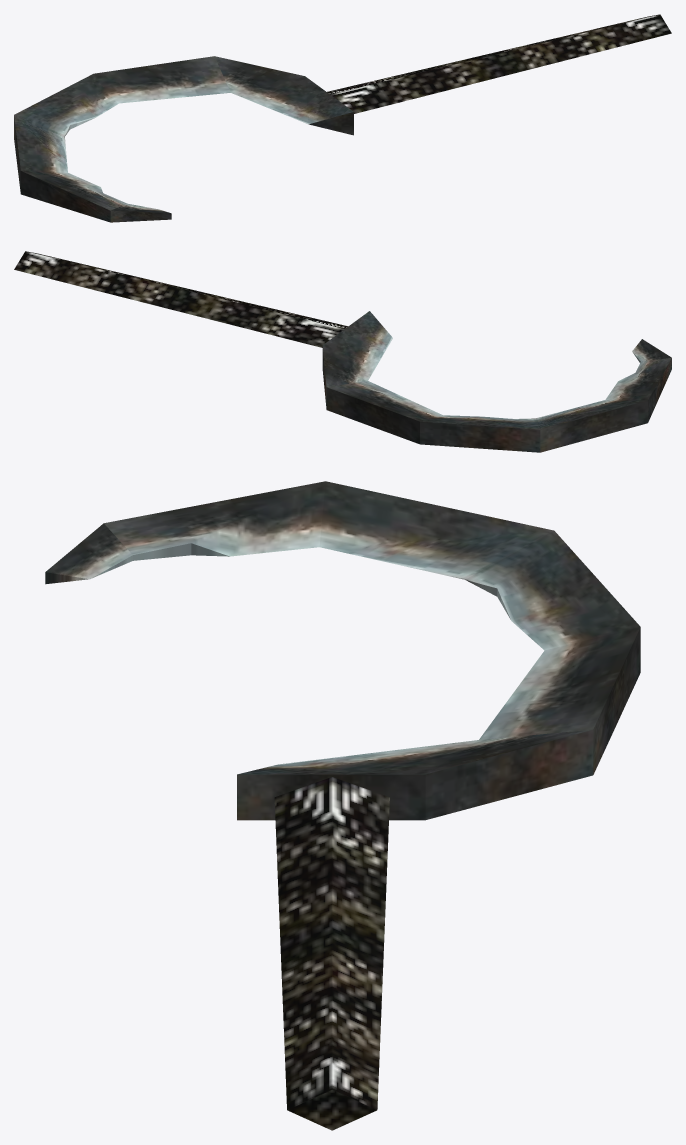
Rendered from ITMW_007_1H_SICKLE_01.glb.
3 renders of one model, top to bottom at view 1: azimuth 30°, elevation 25°; view 2: azimuth 150°, elevation 25°; view 3: azimuth 270°, elevation 25°, orthographic. The views are drawn at different scales.
Parts seen in each view (by area): view 1: ITMW_007_1H_SICKLE_01; view 2: ITMW_007_1H_SICKLE_01; view 3: ITMW_007_1H_SICKLE_01.
Boxes of the visible parts, x1=… form: ITMW_007_1H_SICKLE_01: x1=14, y1=14, x2=671, y2=222; ITMW_007_1H_SICKLE_01: x1=14, y1=251, x2=671, y2=452; ITMW_007_1H_SICKLE_01: x1=45, y1=481, x2=640, y2=1130.
Bounding box in the file's own units: 0.5689 × 0.02 × 0.2362.
Materials: 2 (2 with a texture image).
